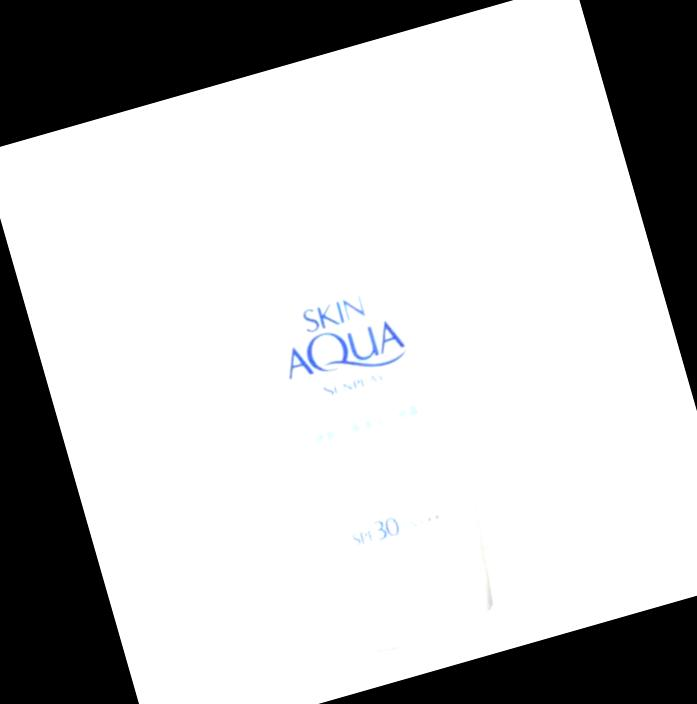cosmetic: (192, 92, 507, 651)
